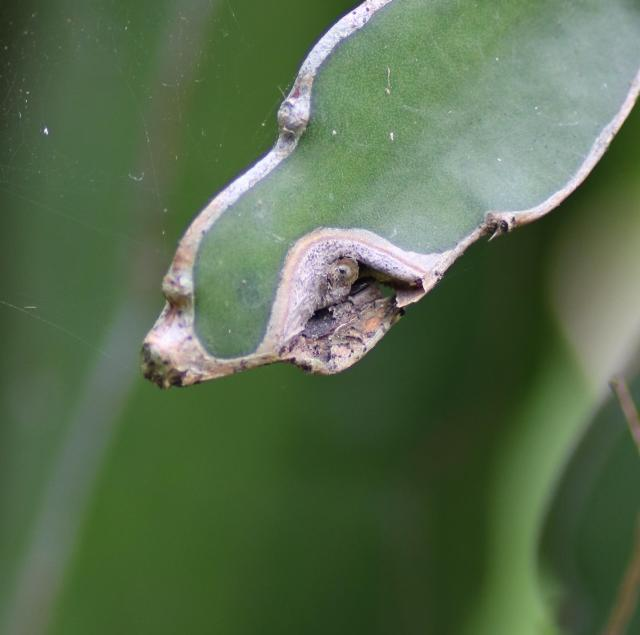stemcanker: (128, 1, 640, 391)
